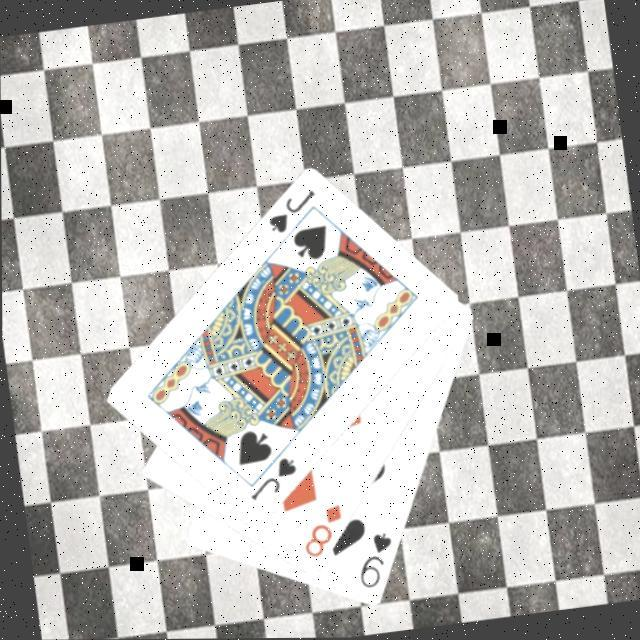8D: (294, 501, 348, 562)
9S: (349, 528, 399, 592)
JS: (260, 186, 321, 238), (240, 452, 302, 503)
